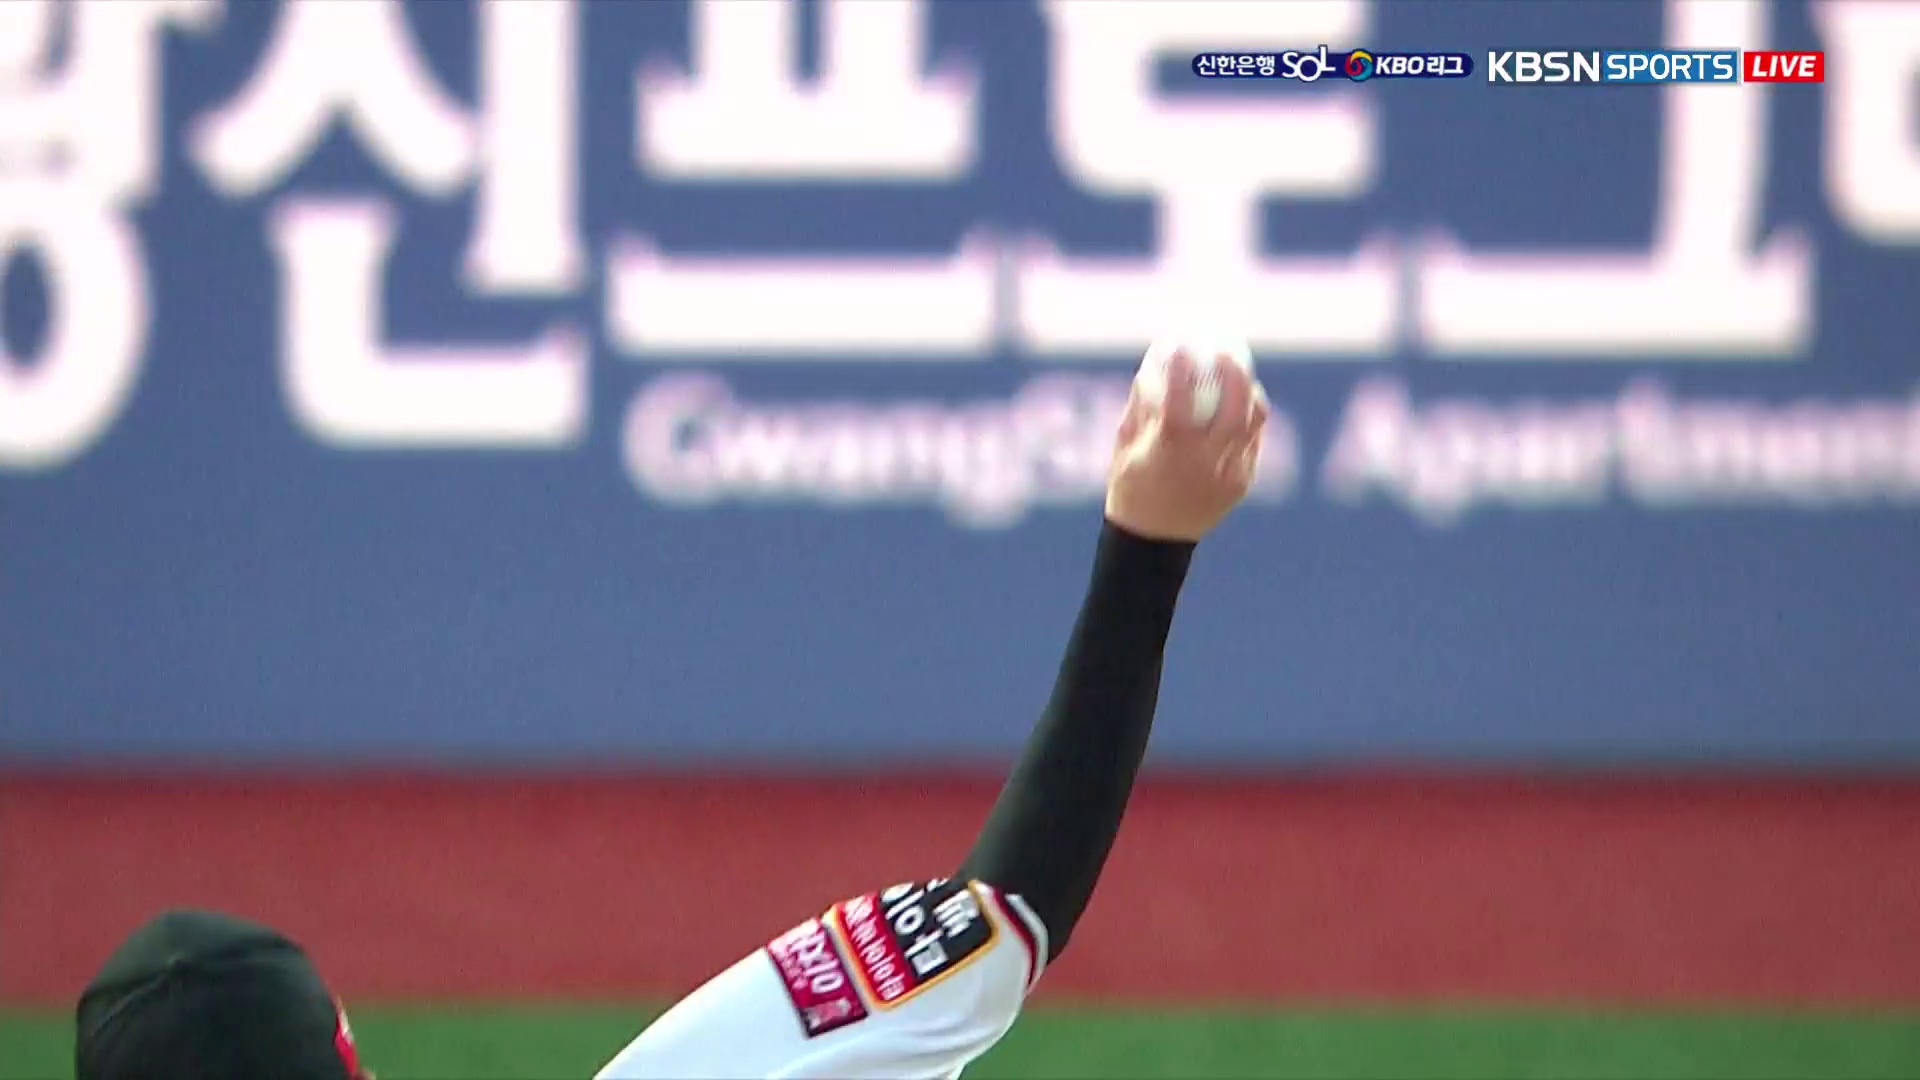zoomin_hand: (945, 310, 1274, 992)
